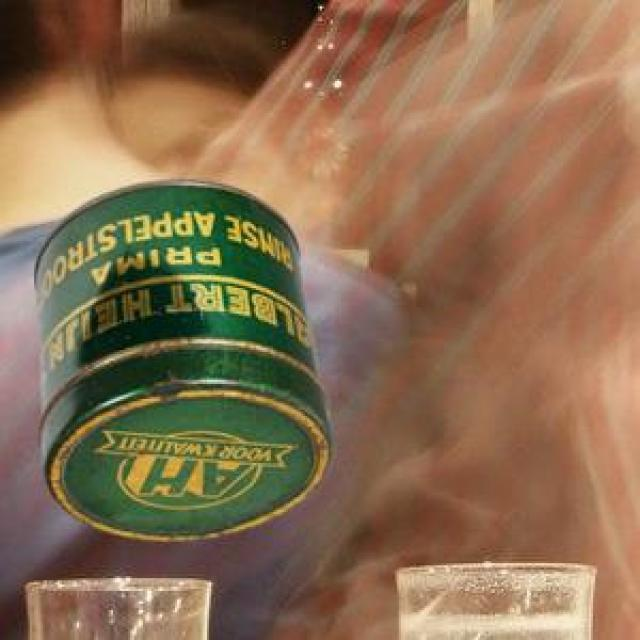Can: (31, 178, 330, 537)
